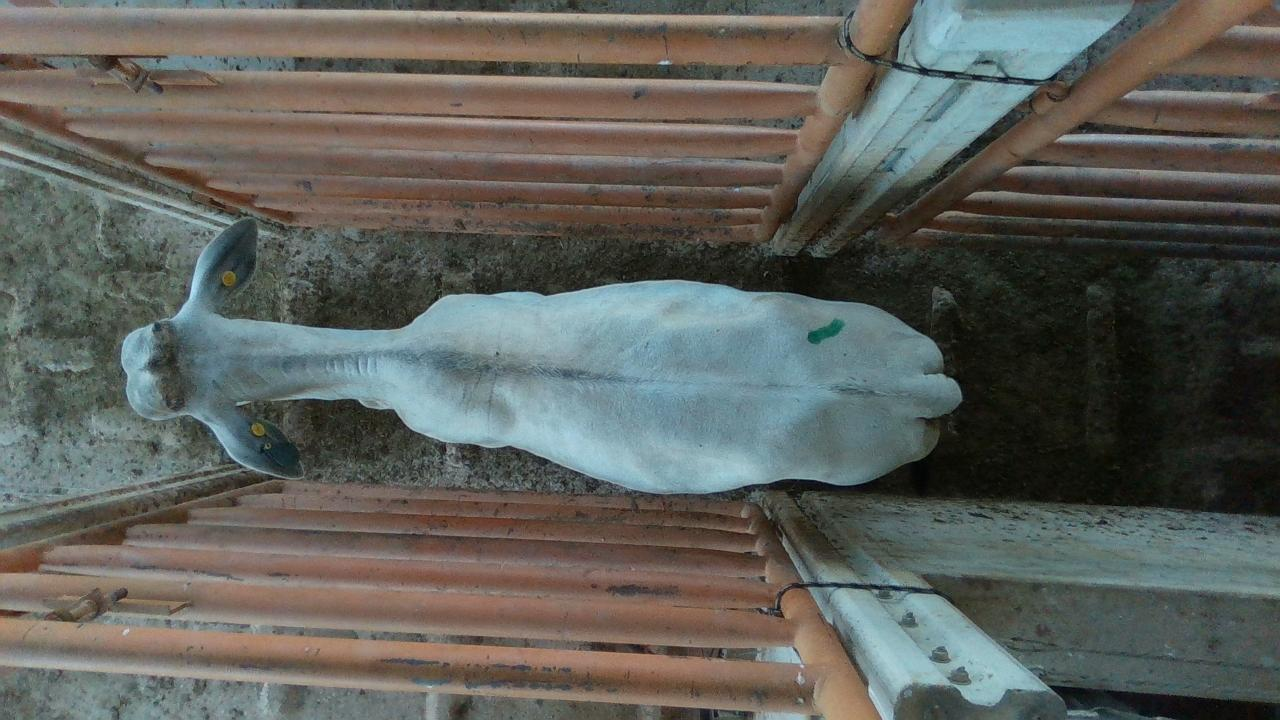cattle: (119, 214, 963, 495)
